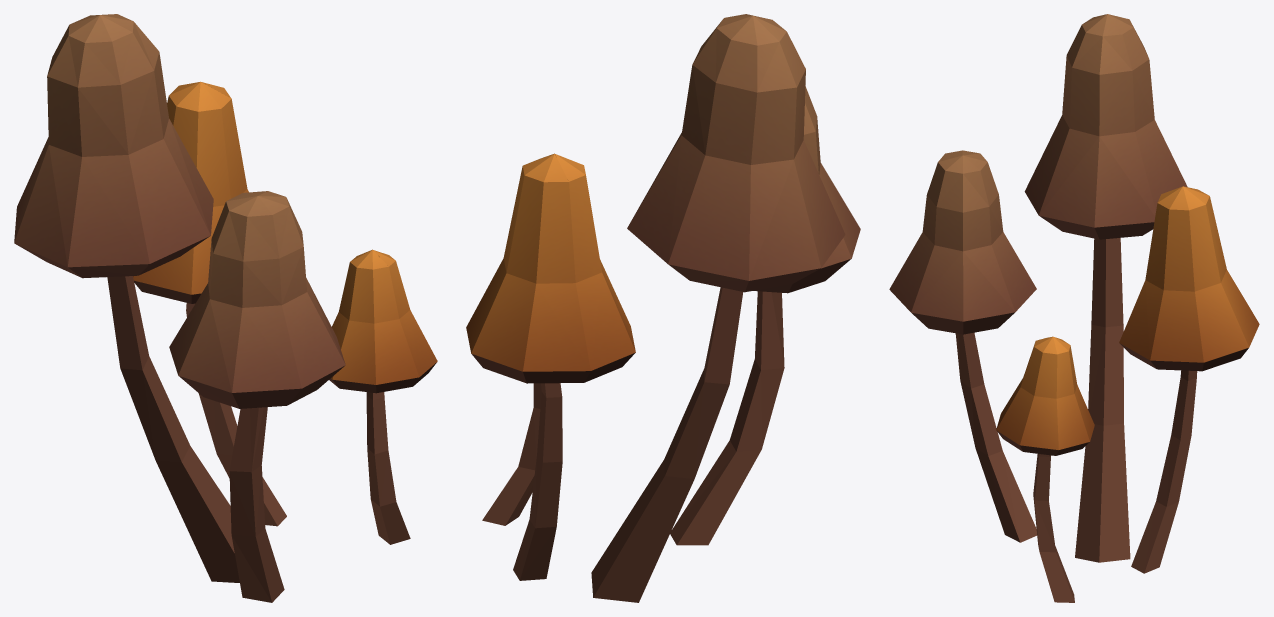
The model's file is ZLP_Mushroom_A_2.FBX.
3 views of the same model, side by side, from view 1: azimuth 30°, elevation 25°; view 2: azimuth 150°, elevation 25°; view 3: azimuth 270°, elevation 25° (orthographic). The views are drawn at different scales.
Visible parts, largest first — view 1: ZLP_Mushroom_A_2; view 2: ZLP_Mushroom_A_2; view 3: ZLP_Mushroom_A_2.
Boxes of the visible parts, <box> form: ZLP_Mushroom_A_2: <box>14,14,437,602</box>; ZLP_Mushroom_A_2: <box>466,14,860,602</box>; ZLP_Mushroom_A_2: <box>889,14,1259,602</box>.
Bounding box in the file's own units: 70.86 × 110 × 74.33.
